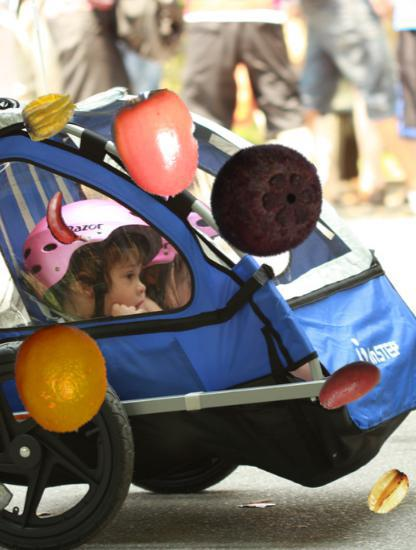Banana: (34, 191, 94, 251)
Carambula: (363, 467, 414, 518)
Kaki: (100, 91, 209, 200)
Lemon: (7, 325, 117, 435)
Mangostan: (208, 141, 326, 259)
Physalis: (22, 86, 80, 144)
Potato: (314, 350, 384, 420)
